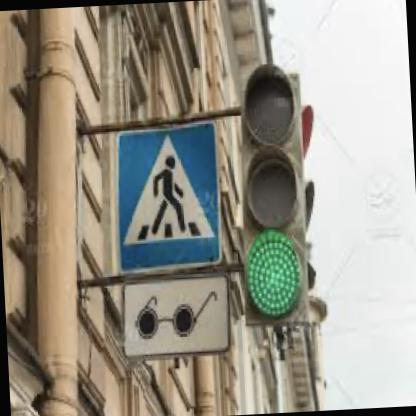crosswalk: (110, 116, 221, 270)
trafficlight: (231, 59, 312, 327)
